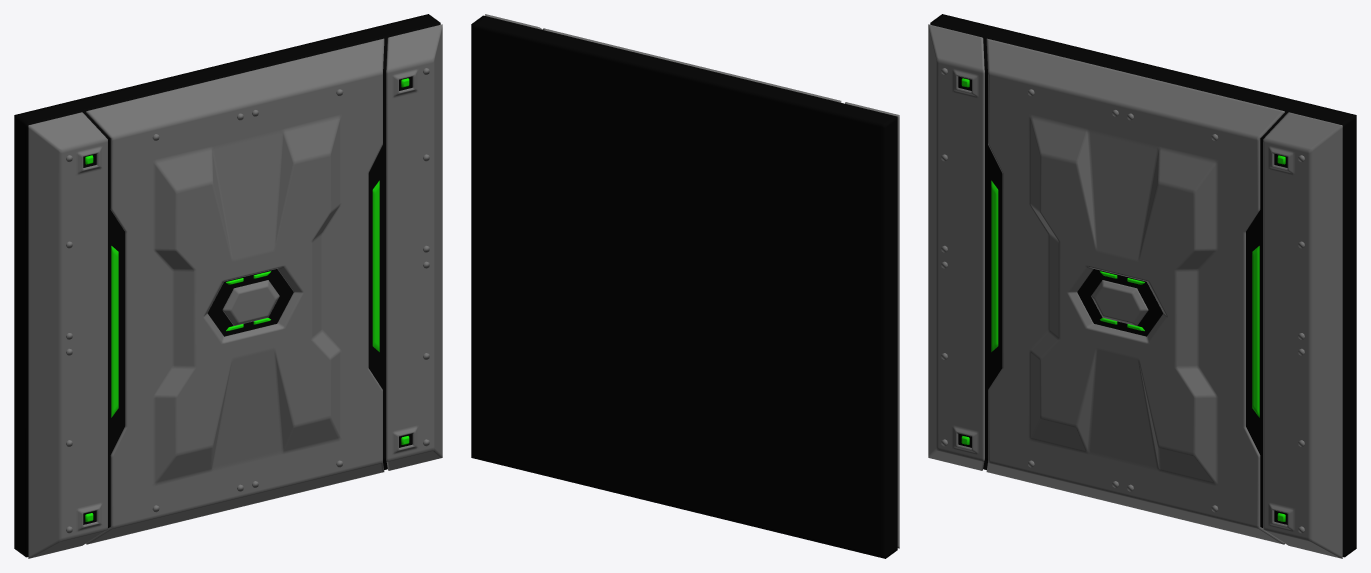
The model's file is sifi2.2.fbx.
3 views of the same model, side by side, from view 1: azimuth 30°, elevation 25°; view 2: azimuth 150°, elevation 25°; view 3: azimuth 330°, elevation 25° (orthographic).
Visible parts, largest first — view 1: SciFi_Panel_001; view 2: SciFi_Panel_001; view 3: SciFi_Panel_001.
Boxes of the visible parts, bbox=[...] form: SciFi_Panel_001: bbox=[14, 14, 442, 558]; SciFi_Panel_001: bbox=[471, 14, 899, 558]; SciFi_Panel_001: bbox=[928, 14, 1356, 558].
Size of the model in its own units: 200 by 200 by 26.73.
